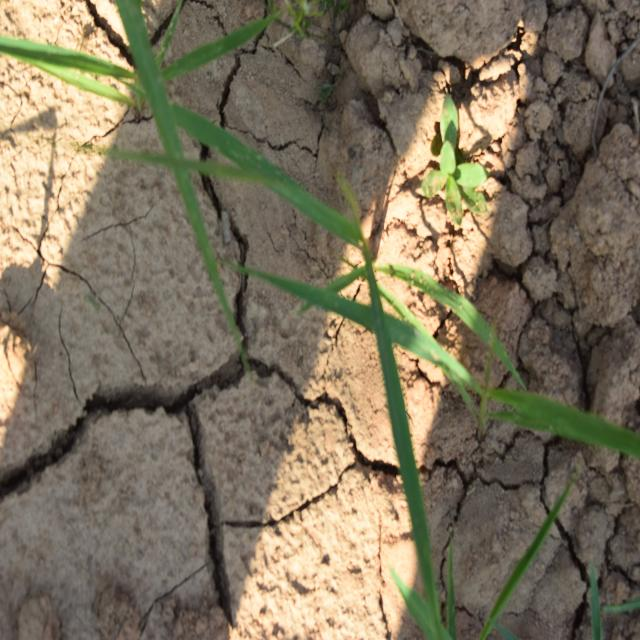green_foxtail: (277, 192, 598, 475)
